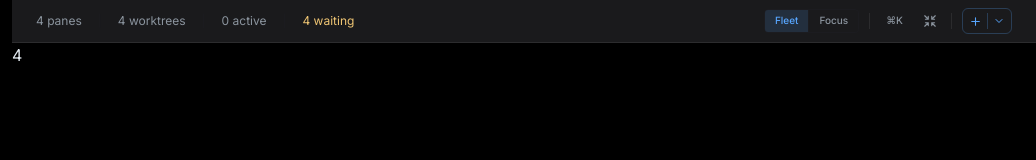
it: AttentionPeek › dismissal › leaves no residual node behind once closed
Click the button with test id "resource-attention-stat".
click(328, 21)  # box [302, 13, 354, 29]
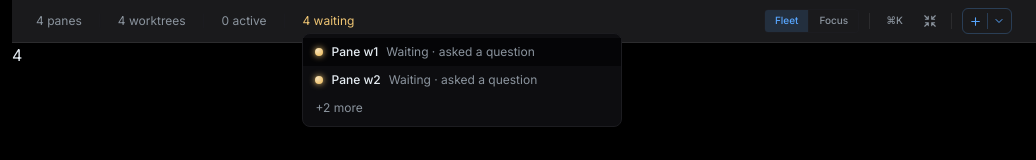
Press Escape in the menu named "Waiting agents", box [302, 33, 622, 127]
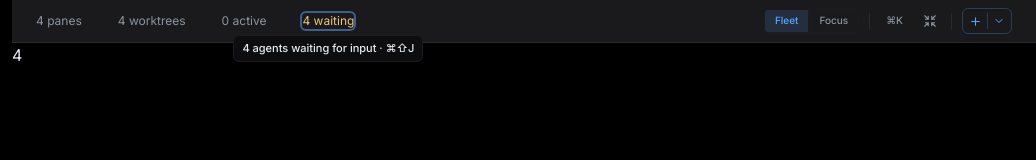
Expected: no menu items are shown
Expected: no menus are shown
